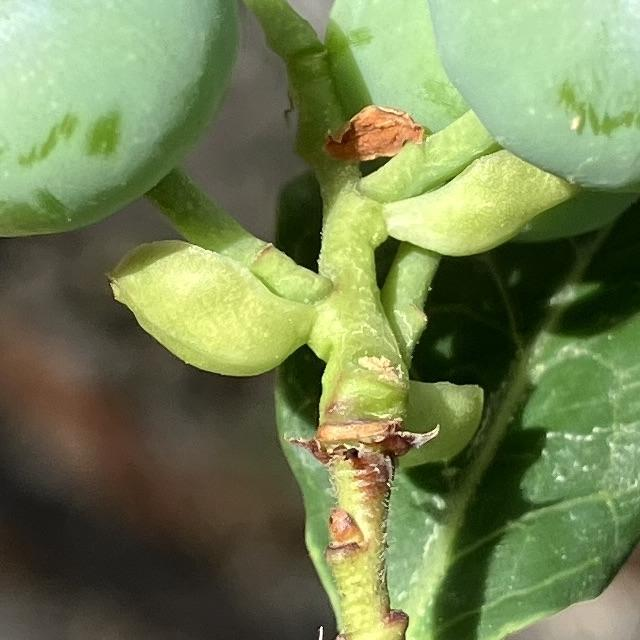Blueberries: (0, 0, 236, 239), (419, 0, 640, 195)
